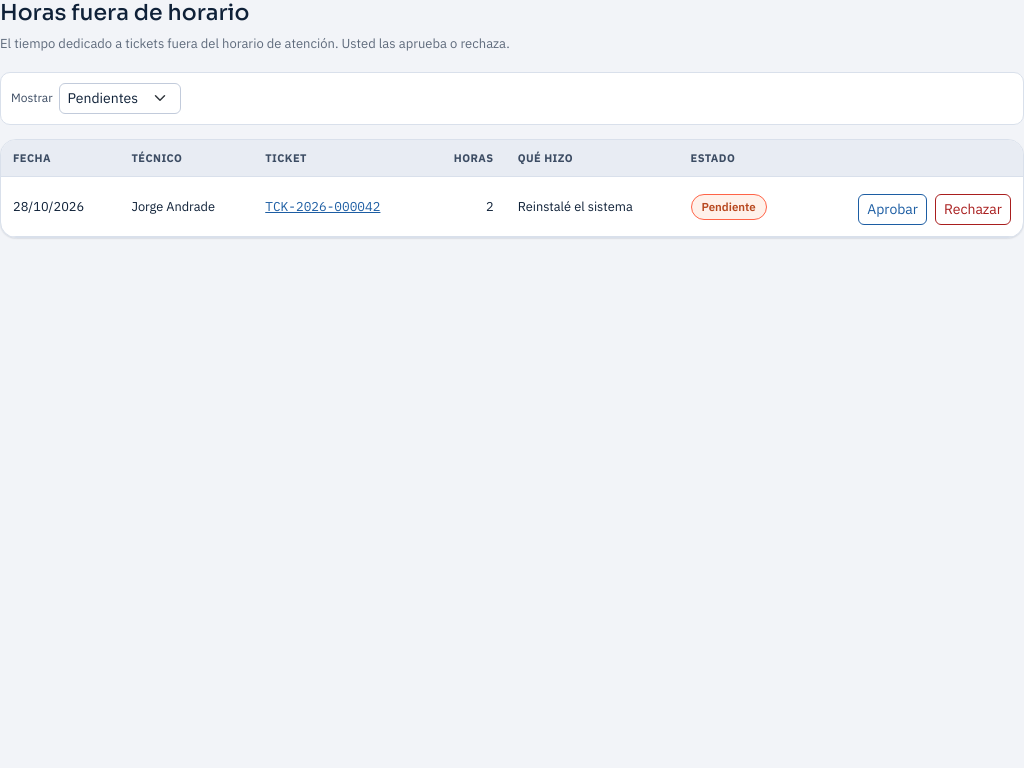
Test: Las horas fuera de horario › rechazar pide el motivo y dice el resultado
Click the button with aria-label "Rechazar 2 horas de Jorge Andrade" at (973, 210), box x1=935 y1=194 x2=1011 y2=225
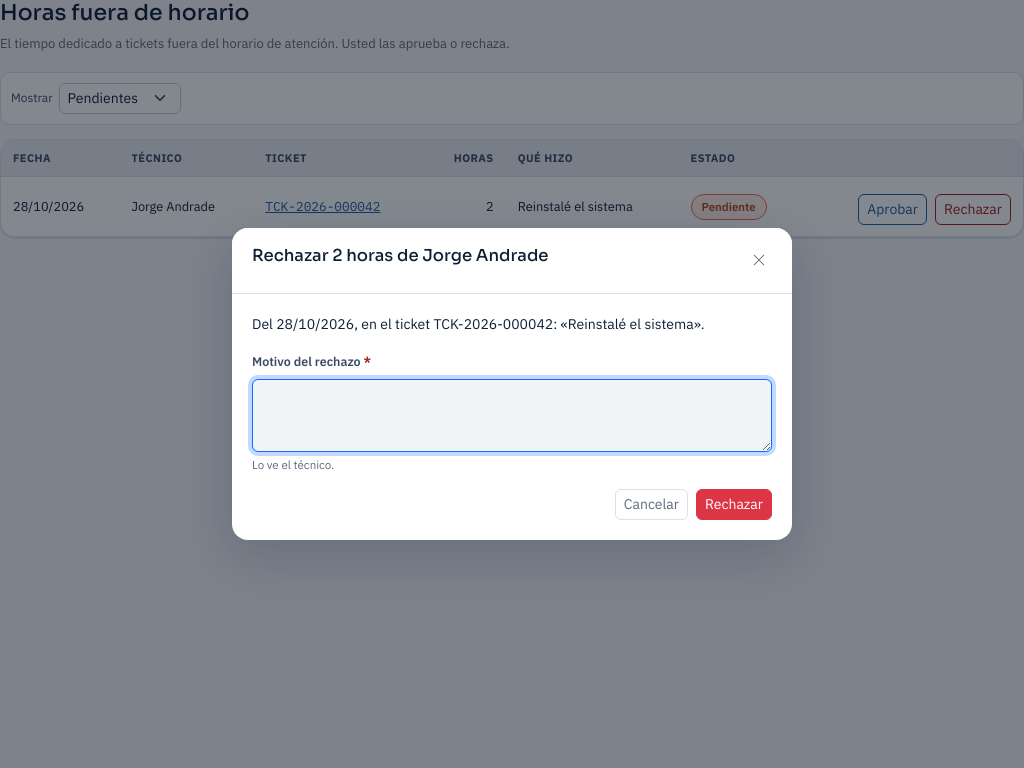
Click the button "Rechazar" at (734, 504), box x1=696 y1=489 x2=772 y2=520
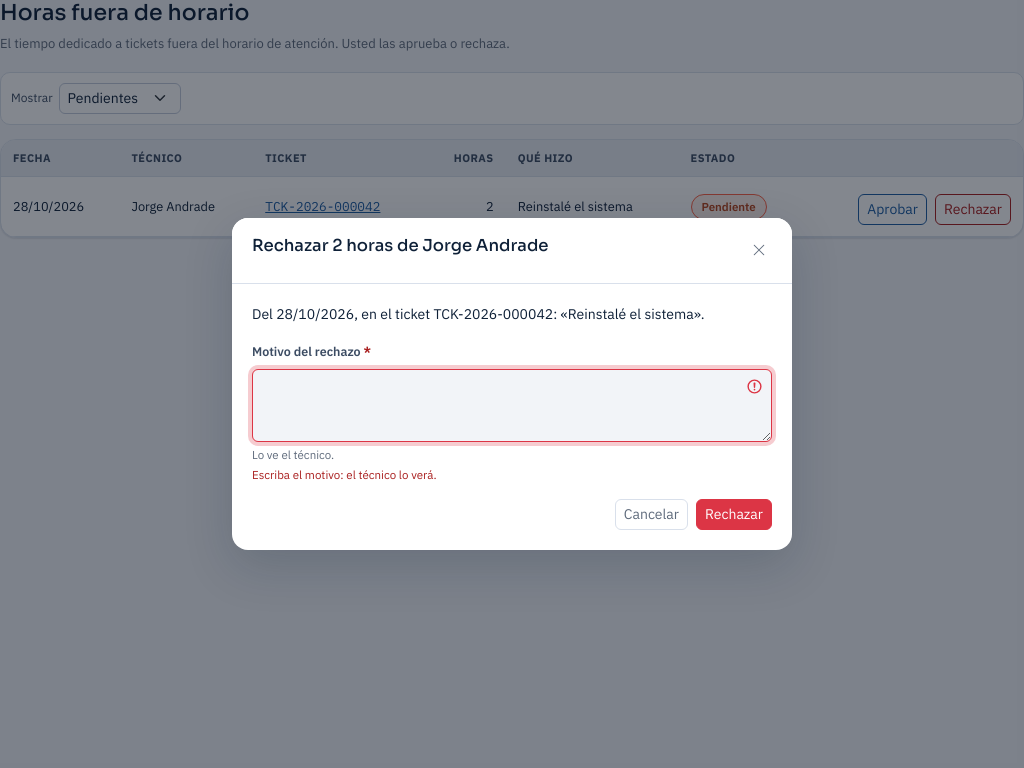
Check: the text box labelled "Motivo del rechazo *" is marked as invalid
Type "No estaba de turno" into the text box labelled "Motivo del rechazo *" at (512, 405), box x1=252 y1=369 x2=772 y2=442
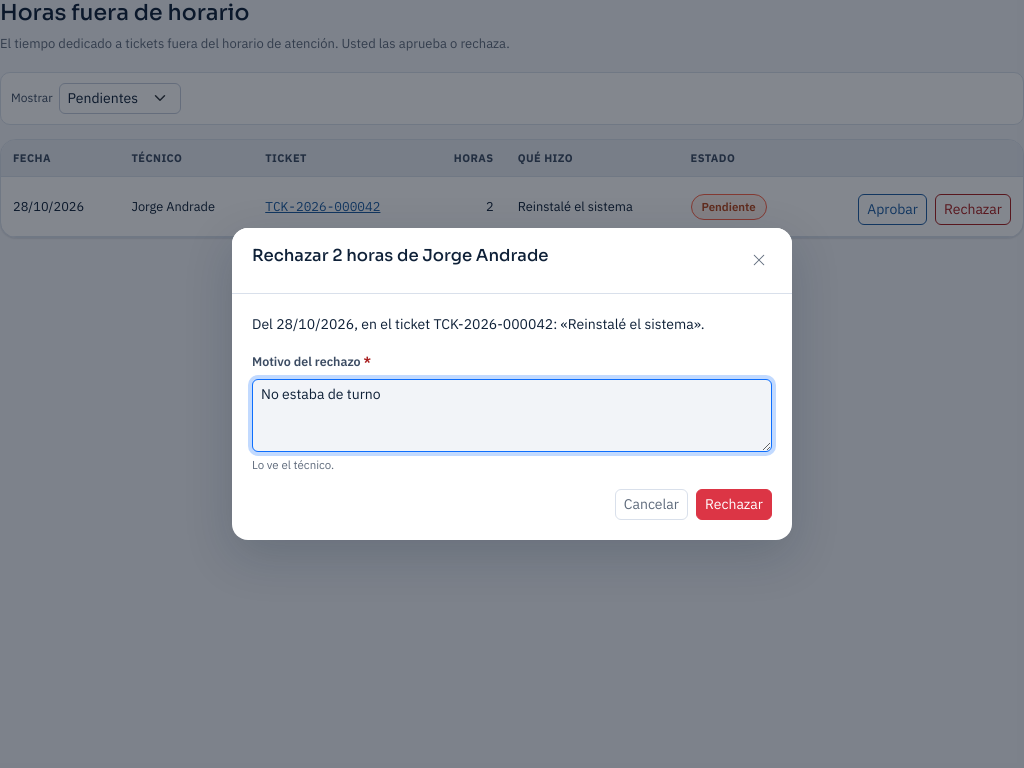
Click the button "Rechazar" at (734, 504), box x1=696 y1=489 x2=772 y2=520
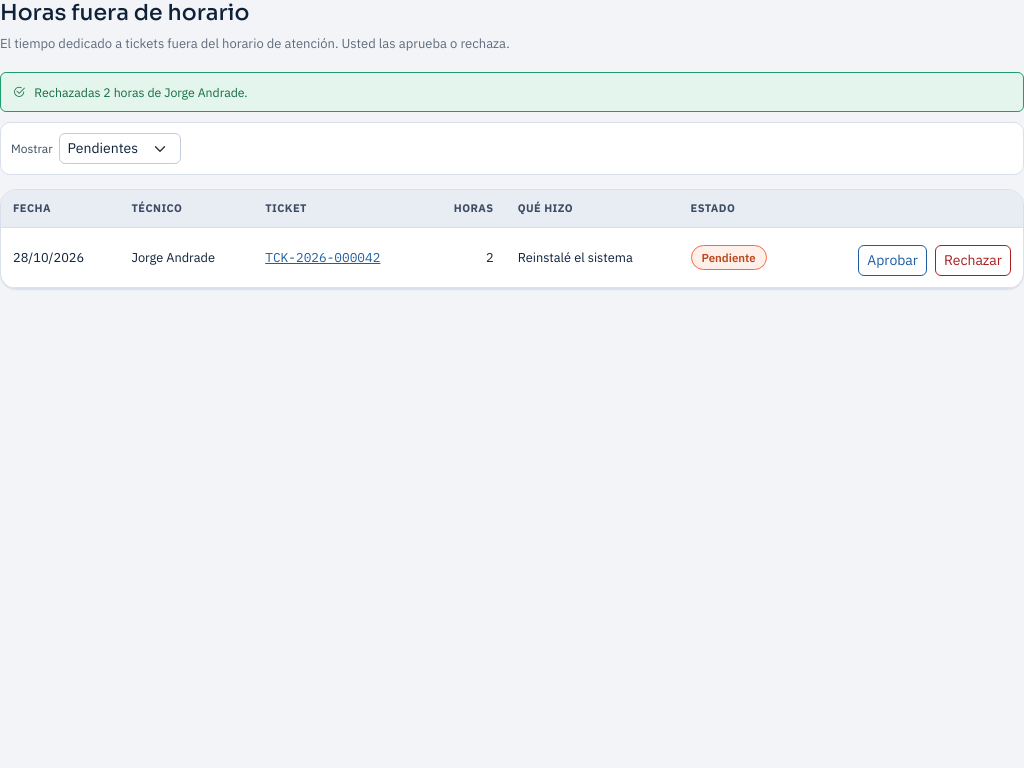
Check: the text "Rechazadas 2 horas de Jorge Andrade." is shown, box x1=0 y1=72 x2=1023 y2=112
